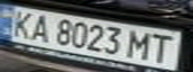0: (66, 19, 90, 49)
2: (84, 21, 106, 54)
3: (103, 24, 127, 56)
8: (51, 16, 75, 47)
A: (24, 12, 54, 44)
K: (3, 8, 39, 39)
M: (127, 28, 157, 61)
T: (145, 31, 181, 64)
